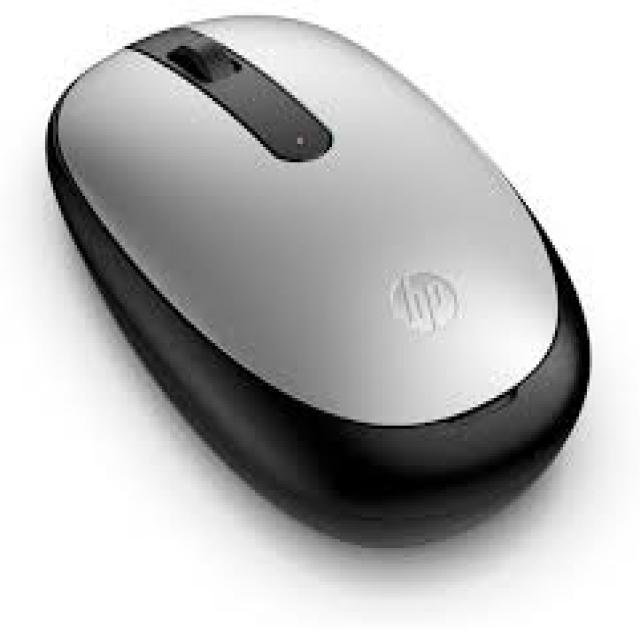mouse: (34, 14, 594, 519)
